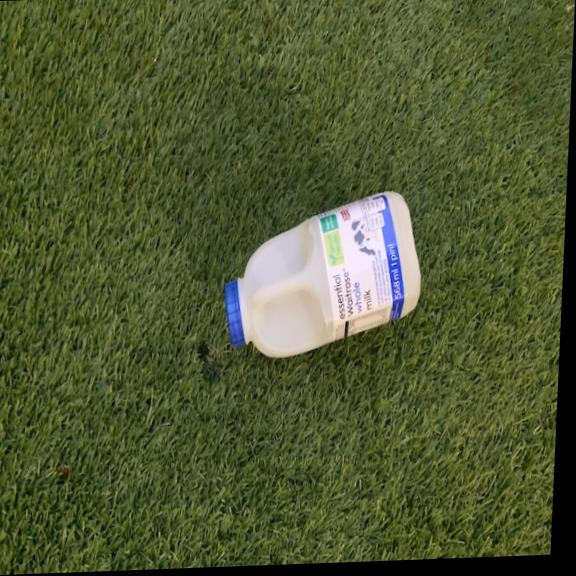Plastik: (221, 180, 429, 364)
